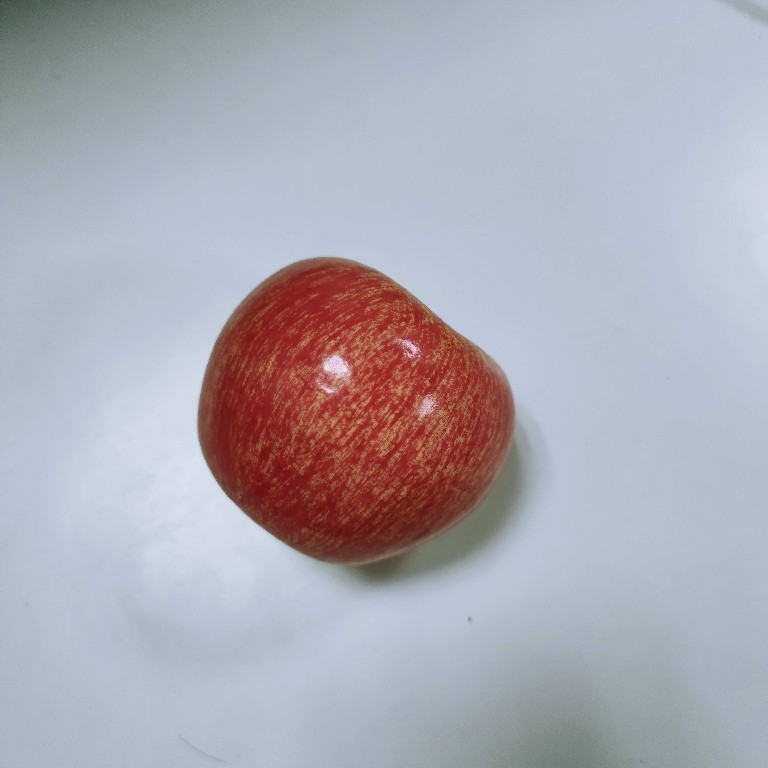fruit_apple: (190, 250, 520, 572)
